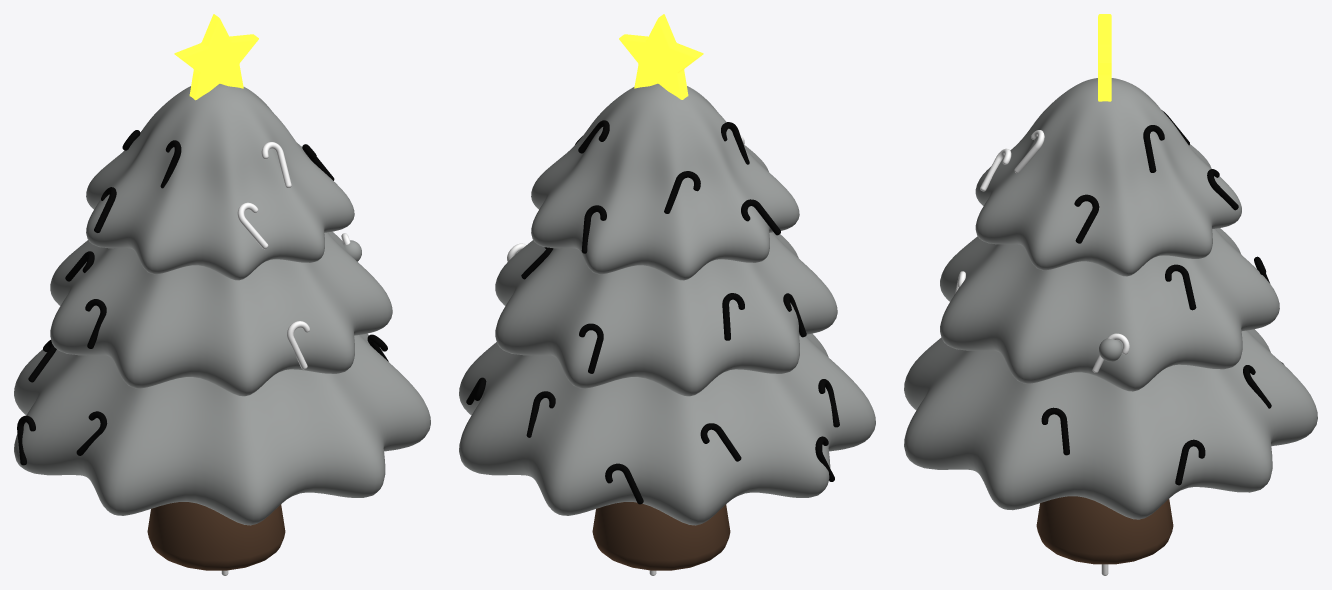
File: christmasTree.glb
3 renders of one model, left to right at view 1: azimuth 30°, elevation 25°; view 2: azimuth 150°, elevation 25°; view 3: azimuth 270°, elevation 25°, orthographic.
Parts seen in each view (by area): view 1: LeafBottom, LeafMiddle, LeafTop, Tree, Star; view 2: LeafBottom, LeafMiddle, LeafTop, Tree, Star; view 3: LeafBottom, LeafMiddle, LeafTop, Tree, Star.
Boxes of the visible parts, x1,y1,x2,y2 form: LeafBottom: (14,333,430,525); LeafMiddle: (50,231,392,396); LeafTop: (86,84,354,280); Tree: (147,502,285,570); Star: (174,14,258,100); LeafBottom: (459,333,875,525); LeafMiddle: (495,232,837,396); LeafTop: (531,83,799,280); Tree: (592,502,730,570); Star: (619,14,703,99); LeafBottom: (904,329,1317,519); LeafMiddle: (940,228,1279,391); LeafTop: (975,78,1241,276); Tree: (1036,496,1173,564); Star: (1098,14,1111,101).
Bounding box in the file's own units: 2.14 × 3.12 × 2.1.
Materials: 22 (17 with a texture image).
